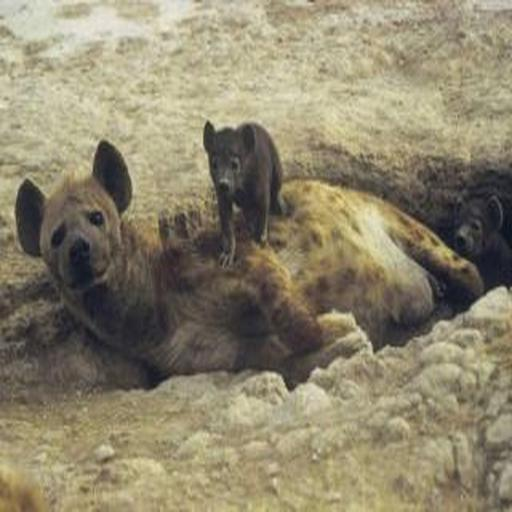Hyena: (14, 126, 483, 382), (197, 119, 293, 265), (452, 184, 512, 310)
